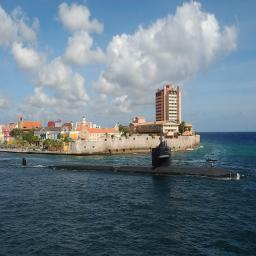submarine: (4, 136, 246, 180)
